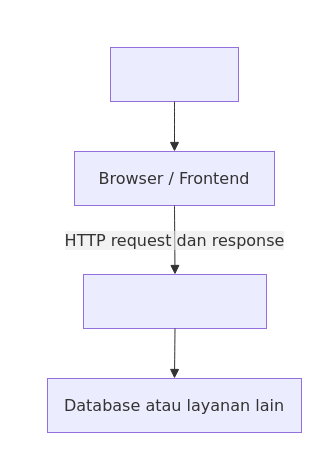
This 319x450 diagram has some shape labels left out. The shapes that lost their labels are listed below. From the top down, each one's box as (x1, y1, x2, y2) in pixels, then its label:
(110, 46, 238, 102): Pengguna
(82, 274, 266, 328): Backend / Server
